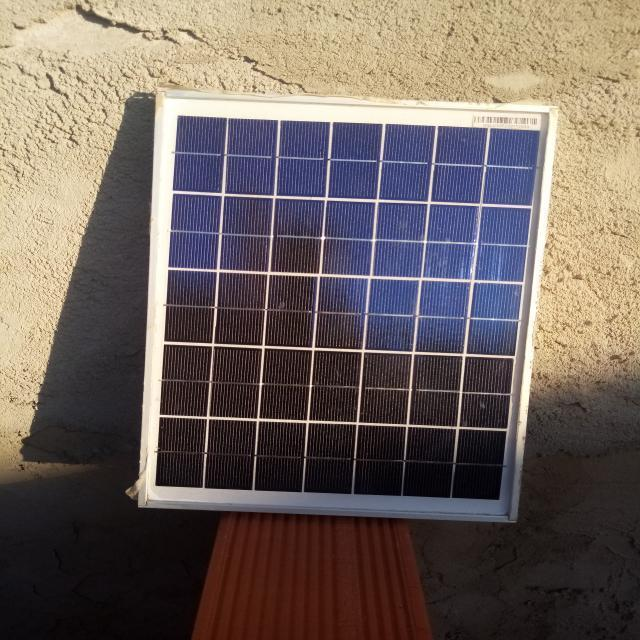Normal Solar Panel: (146, 95, 558, 525)
